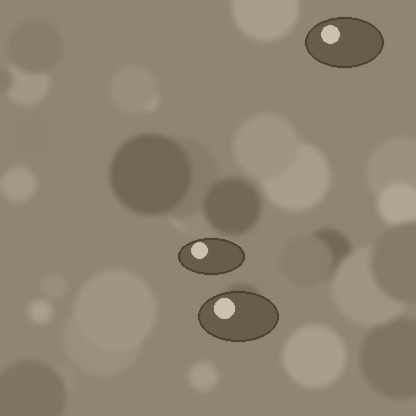gota: (198, 293, 278, 345), (305, 19, 383, 71), (178, 239, 244, 277)
